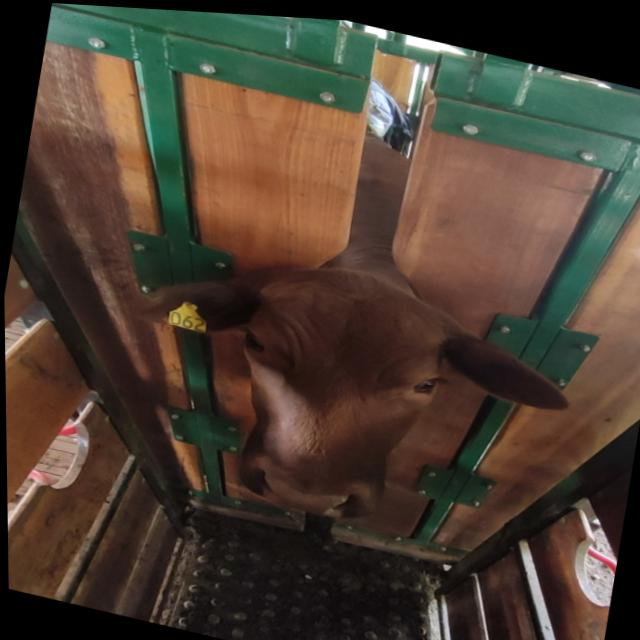cowFace: (214, 247, 462, 538)
